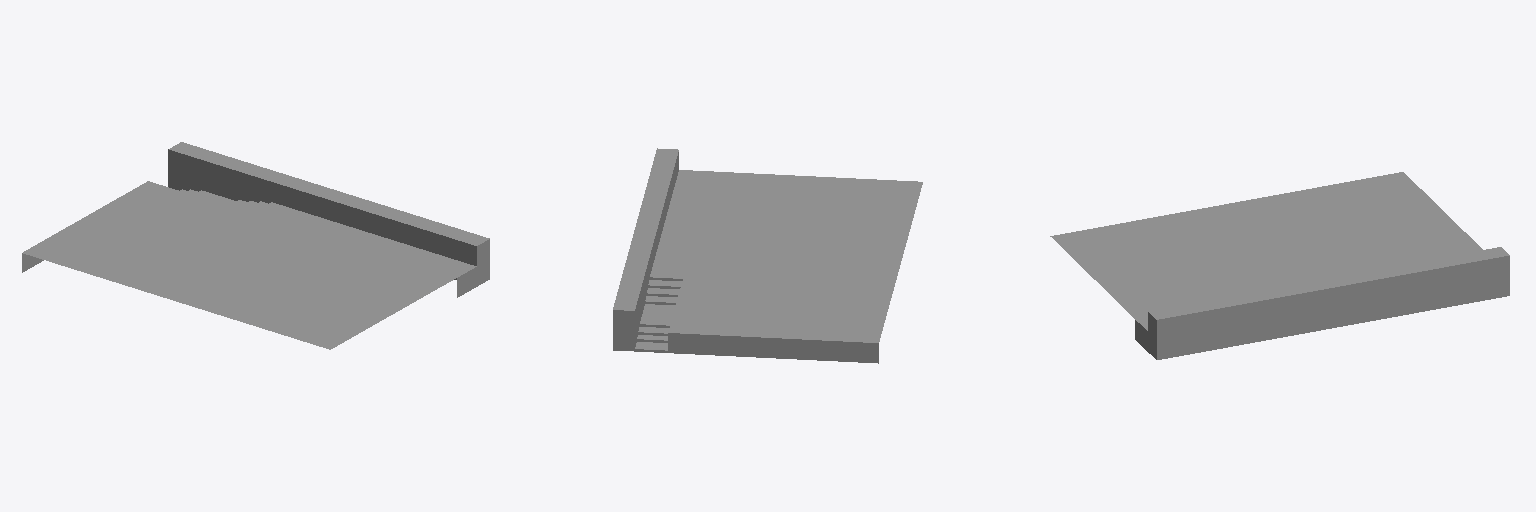
File: GranadosGroundModel.obj
3 views of the same model, side by side, from view 1: azimuth 30°, elevation 25°; view 2: azimuth 150°, elevation 25°; view 3: azimuth 270°, elevation 25° (orthographic).
Visible parts, largest first — view 1: Cube.016_Cube.086; view 2: Cube.016_Cube.086; view 3: Cube.016_Cube.086.
Boxes of the visible parts, x1,y1,x2,y2 form: Cube.016_Cube.086: [22, 142, 489, 349]; Cube.016_Cube.086: [613, 148, 922, 363]; Cube.016_Cube.086: [1050, 172, 1509, 359].
Bounding box in the file's own units: 35.68 × 4 × 41.11.